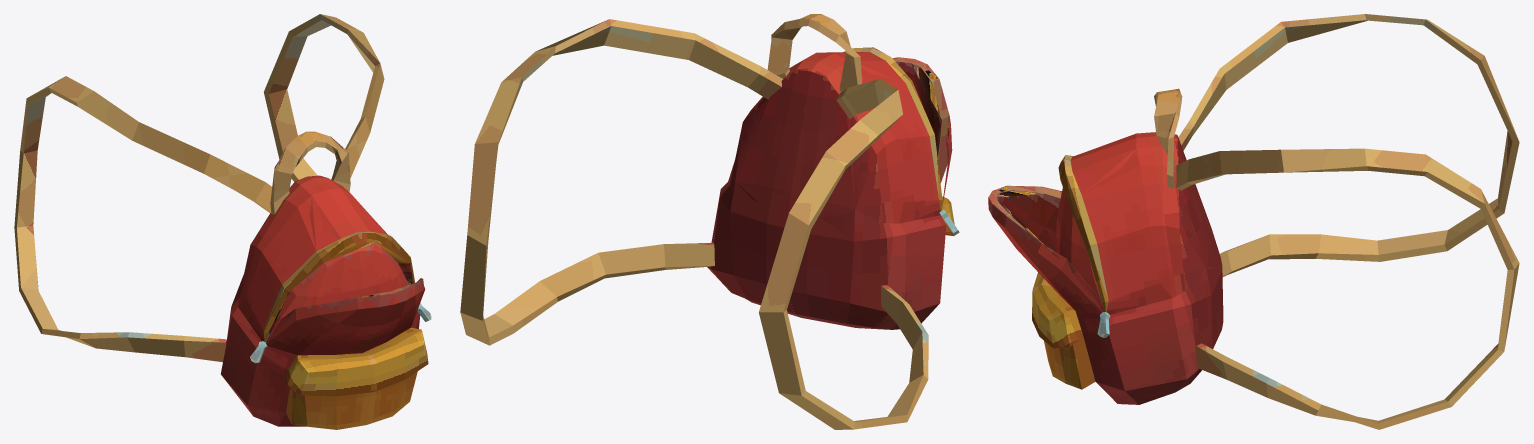
File: item_backpack_small_base.glb
3 renders of one model, left to right at view 1: azimuth 30°, elevation 25°; view 2: azimuth 150°, elevation 25°; view 3: azimuth 270°, elevation 25°, orthographic. The views are drawn at different scales.
Visible parts, largest first — view 1: backpackMini, straps, backpackMini.001, hook; view 2: backpackMini, straps, backpackMini.001, hook; view 3: backpackMini, straps, backpackMini.001, hook.
Boxes of the visible parts, x1=… form: backpackMini: x1=221, y1=175, x2=428, y2=429; straps: x1=14, y1=14, x2=384, y2=362; backpackMini.001: x1=221, y1=176, x2=426, y2=402; hook: x1=270, y1=131, x2=350, y2=214; backpackMini: x1=707, y1=47, x2=954, y2=329; straps: x1=460, y1=19, x2=928, y2=429; backpackMini.001: x1=712, y1=50, x2=952, y2=328; hook: x1=767, y1=14, x2=861, y2=91; backpackMini: x1=1032, y1=132, x2=1223, y2=404; straps: x1=1176, y1=14, x2=1519, y2=429; backpackMini.001: x1=988, y1=135, x2=1221, y2=404; hook: x1=1154, y1=88, x2=1182, y2=189.
Bounding box in the file's own units: 0.3791 × 0.2866 × 0.4629.
1 material, 1 textured.
